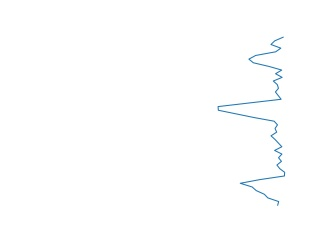underwaterNaturalLevee: (214, 38, 288, 207)
